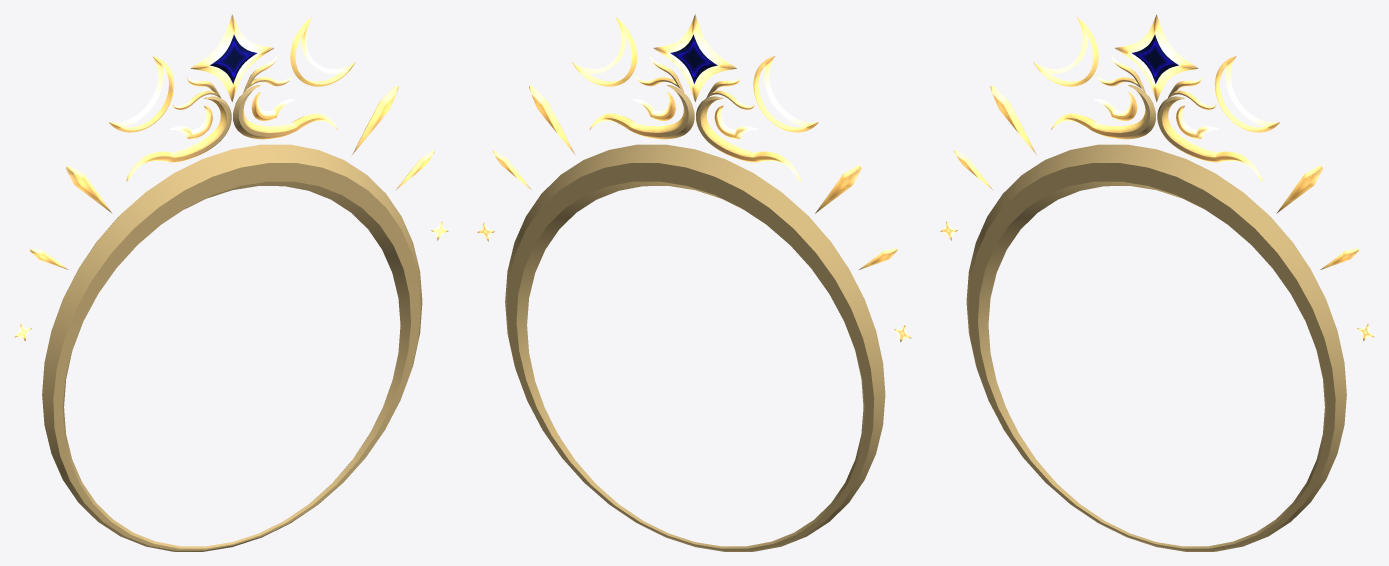
Rendered from Wonder Circle.fbx.
The picture shows the model from 3 angles, left to right: view 1: azimuth 30°, elevation 25°; view 2: azimuth 150°, elevation 25°; view 3: azimuth 330°, elevation 25°; orthographic projection.
Visible parts, largest first — view 1: Wonder Circle; view 2: Wonder Circle; view 3: Wonder Circle.
Part boxes in pixels (left/top/right/bottom): Wonder Circle: left=14, top=14, right=448, bottom=551; Wonder Circle: left=477, top=14, right=911, bottom=551; Wonder Circle: left=940, top=14, right=1374, bottom=551.
Bounding box in the file's own units: 0.1965 × 0.2302 × 0.0135.
